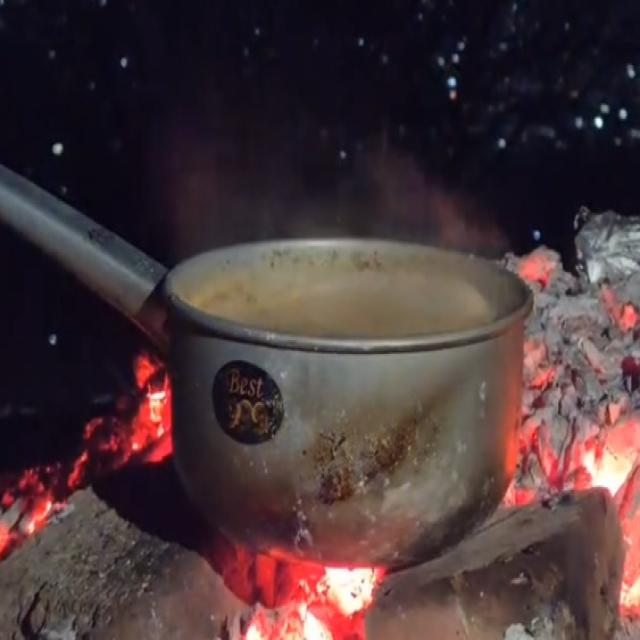fire: (0, 349, 173, 559), (506, 413, 640, 627), (209, 537, 387, 640), (524, 337, 557, 392)
